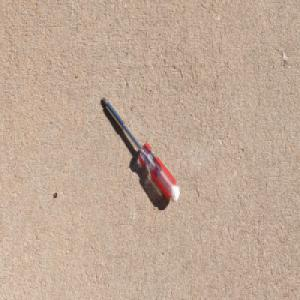Screwdriver: (100, 94, 180, 205)
